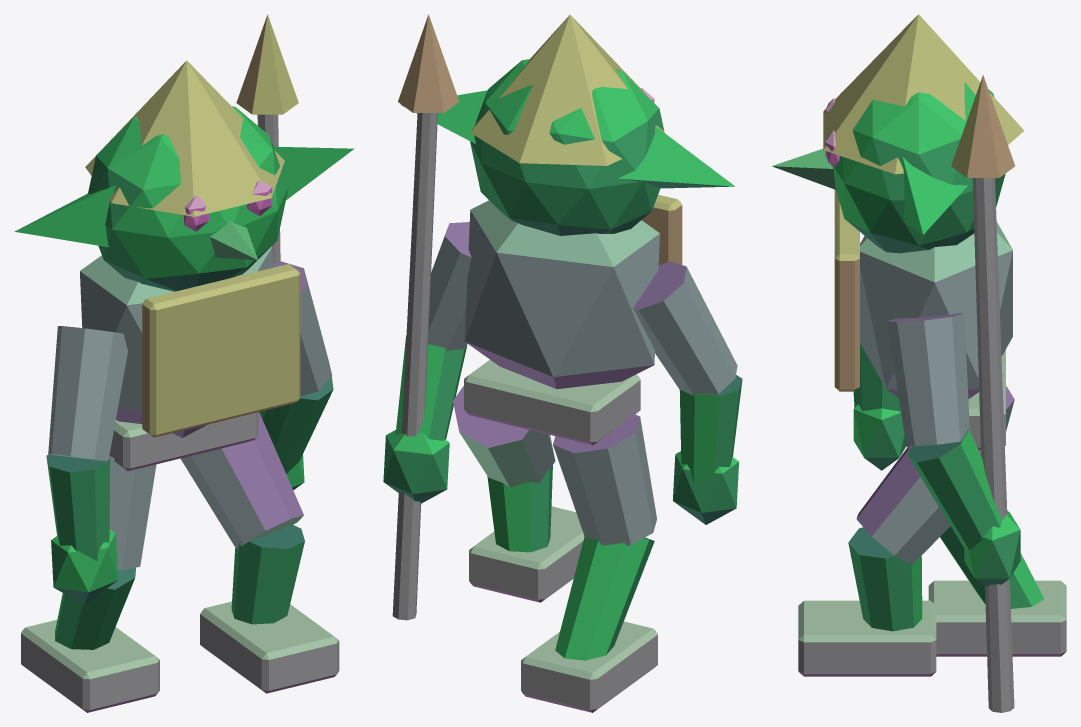
Rendered from creature_goblin_raider_up_b_v01.glb.
The picture shows the model from 3 angles, left to right: view 1: azimuth 30°, elevation 25°; view 2: azimuth 150°, elevation 25°; view 3: azimuth 270°, elevation 25°; orthographic projection. The views are drawn at different scales.
Visible parts, largest first — view 1: GEO_creature_goblin_raider_up_b_v01; view 2: GEO_creature_goblin_raider_up_b_v01; view 3: GEO_creature_goblin_raider_up_b_v01.
Part boxes in pixels (x1,y1,x2,y2): GEO_creature_goblin_raider_up_b_v01: (14,14,354,712); GEO_creature_goblin_raider_up_b_v01: (383,14,742,712); GEO_creature_goblin_raider_up_b_v01: (772,14,1066,712).
Bounding box in the file's own units: 0.88 × 1.57 × 0.6414.
